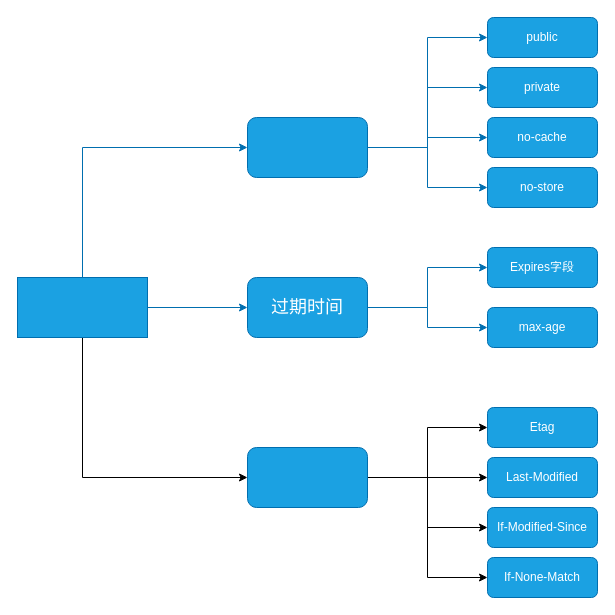
The diagram is 615 pixels wide and 615 high, and some of its shapes have lost their labels. Here are the shapes that lost their labels. From the top down, the box of each, then its label:
(246, 116, 368, 178): 可缓存性
(16, 276, 148, 338): HTTP Caching
(246, 446, 368, 508): 验证相关字段
